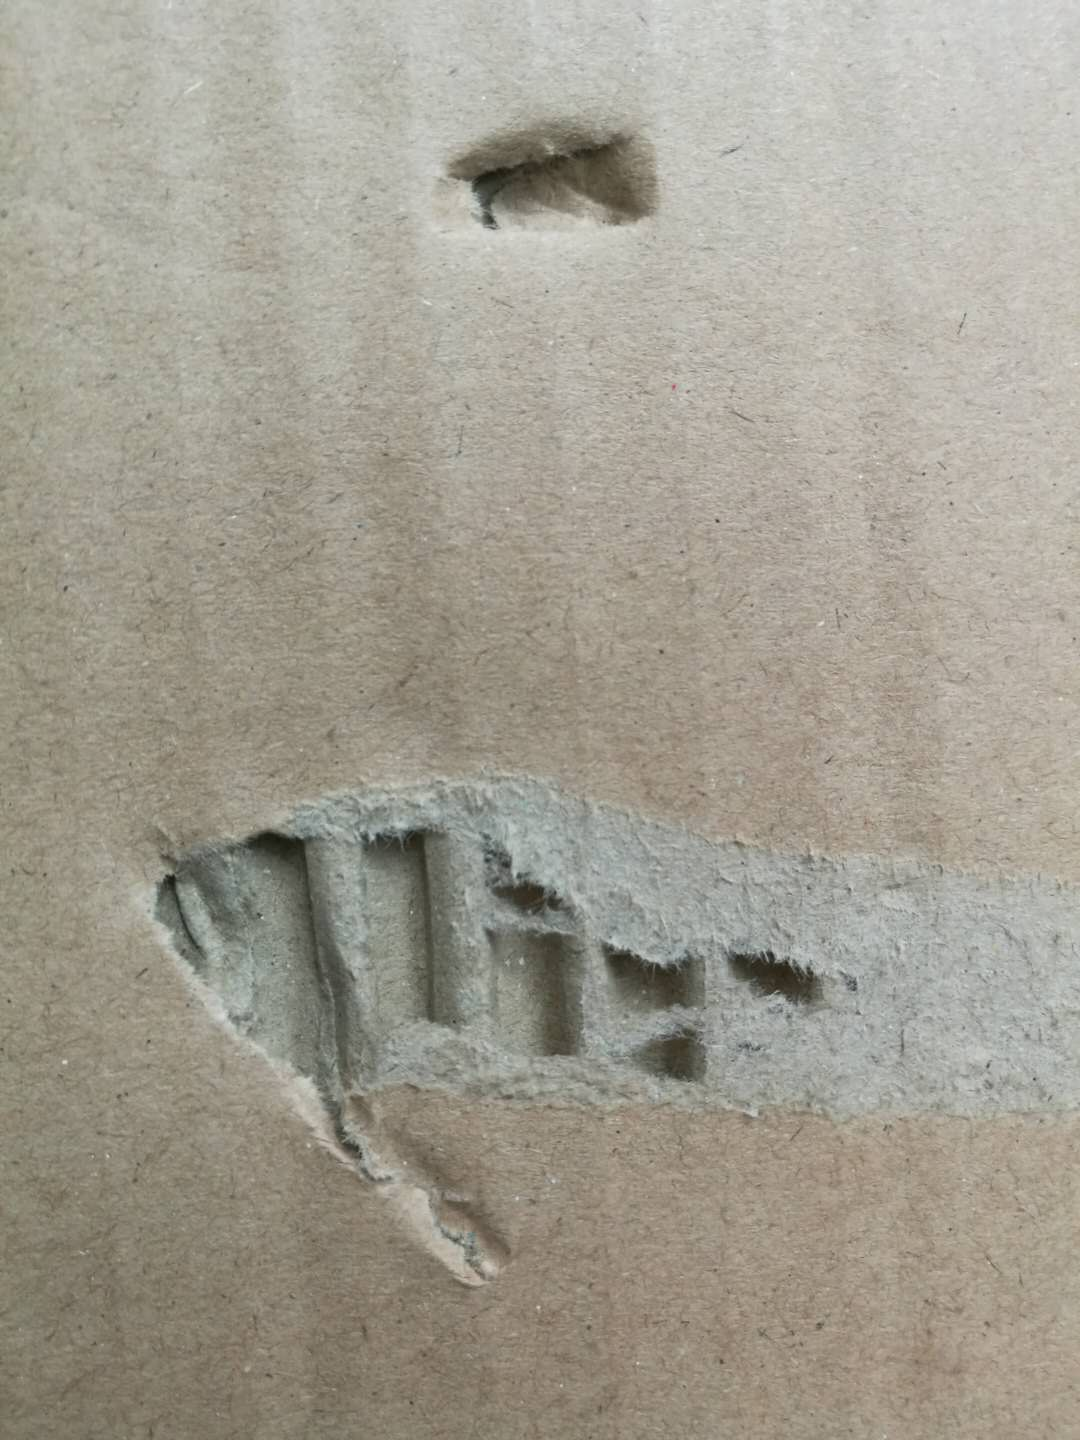defect: (112, 732, 1080, 1310), (408, 85, 697, 266)
